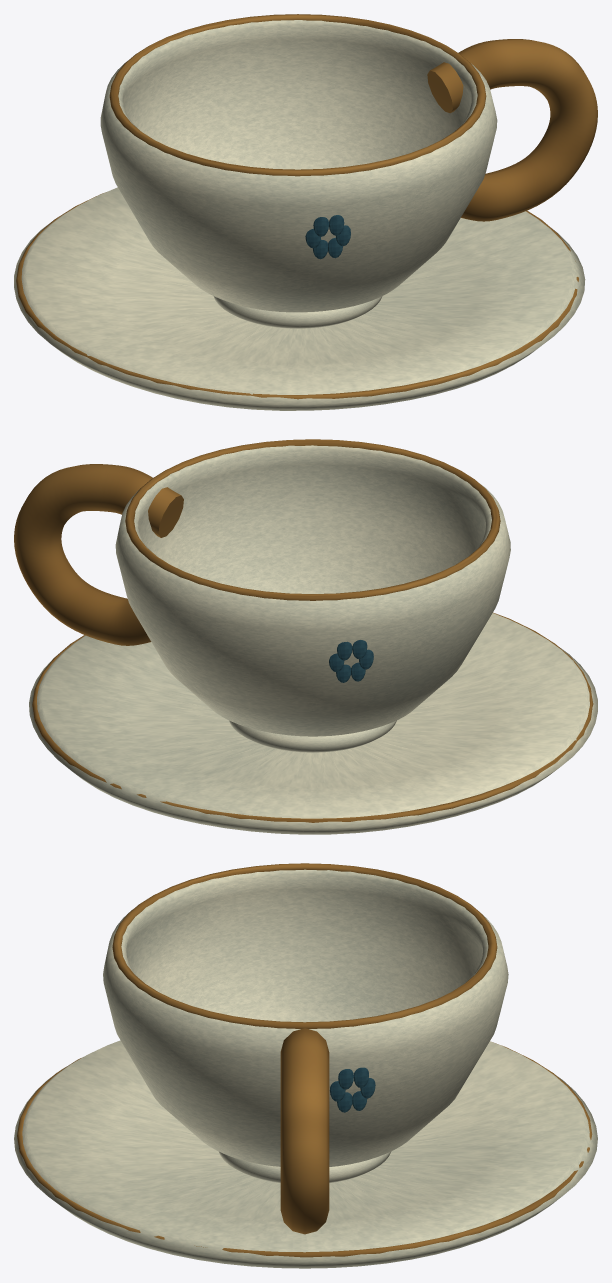
The model's file is TeacupFloral.fbx.
3 views of the same model, one above another, from view 1: azimuth 30°, elevation 25°; view 2: azimuth 150°, elevation 25°; view 3: azimuth 270°, elevation 25° (orthographic). The views are drawn at different scales.
Visible parts, largest first — view 1: Fine flared teacup, Scalloped saucer, Delicate curled handle, Thin gilt lip, Saucer gilt edge, Teacup foot; view 2: Fine flared teacup, Scalloped saucer, Delicate curled handle, Thin gilt lip, Saucer gilt edge, Teacup foot; view 3: Fine flared teacup, Scalloped saucer, Delicate curled handle, Thin gilt lip, Saucer gilt edge, Teacup foot.
Boxes of the visible parts, x1,y1,x2,y2 form: Fine flared teacup: (100,20,497,312); Scalloped saucer: (14,187,585,410); Delicate curled handle: (427,39,597,221); Thin gilt lip: (109,14,486,176); Saucer gilt edge: (16,193,578,399); Teacup foot: (213,296,382,328); Fine flared teacup: (115,445,510,736); Scalloped saucer: (29,613,597,834); Delicate curled handle: (14,464,183,645); Thin gilt lip: (125,439,500,600); Saucer gilt edge: (32,612,593,822); Teacup foot: (229,720,396,752); Fine flared teacup: (103,869,508,1166); Scalloped saucer: (14,1040,597,1268); Delicate curled handle: (280,1028,329,1234); Thin gilt lip: (112,863,497,1028); Saucer gilt edge: (17,1042,592,1257); Teacup foot: (219,1151,391,1182).
Bounding box in the file's own units: 23.76 × 9.35 × 21.6.
